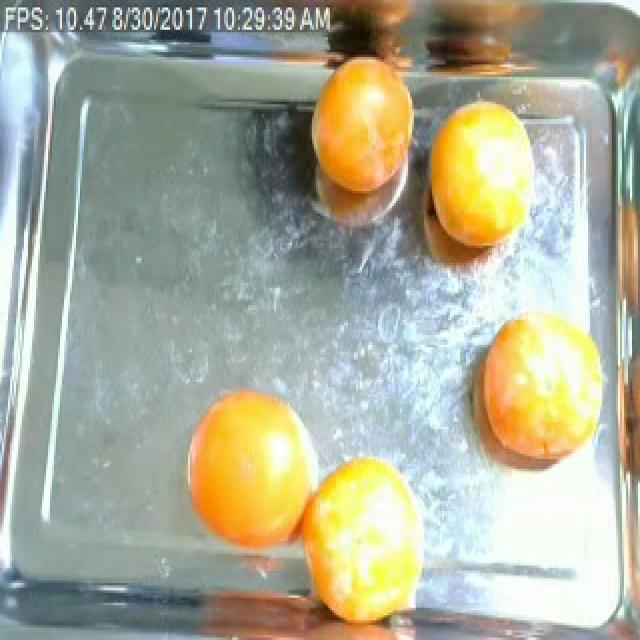Fruit: (174, 372, 330, 578), (296, 436, 442, 640), (456, 300, 610, 486), (420, 82, 562, 265), (296, 45, 416, 238)
